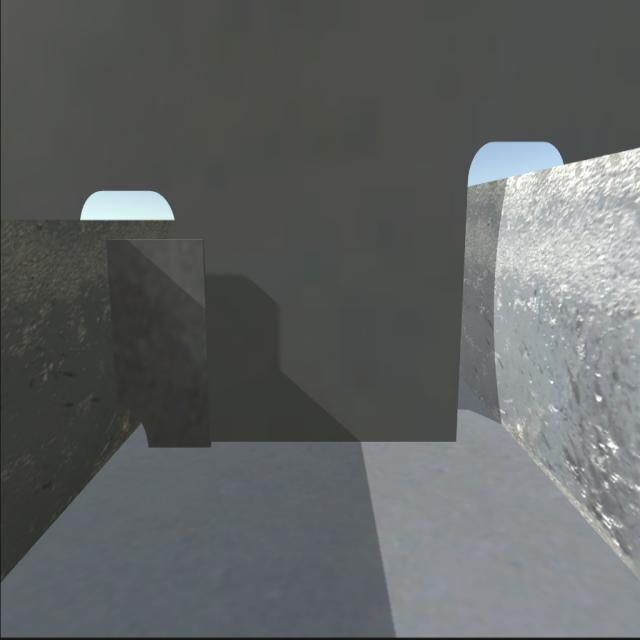fillet_hole: (112, 407, 151, 452)
fillet_yong_jeop_jang: (147, 436, 457, 450)
longi_yong_jeop_jang: (102, 242, 124, 408)
plate_CP01: (104, 241, 215, 453)
